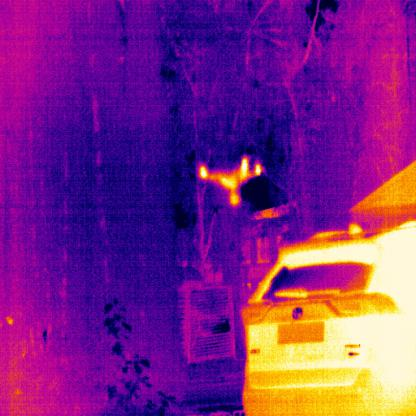drone: (197, 155, 262, 206)
